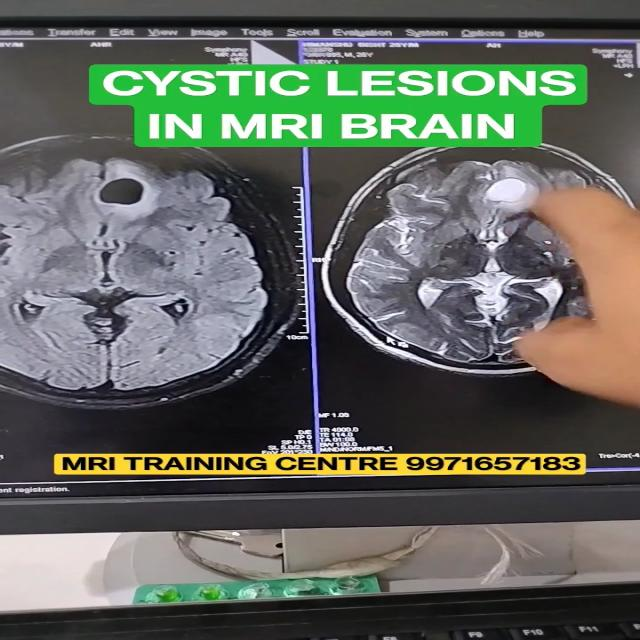tumor: (484, 157, 571, 234), (99, 159, 178, 227)
